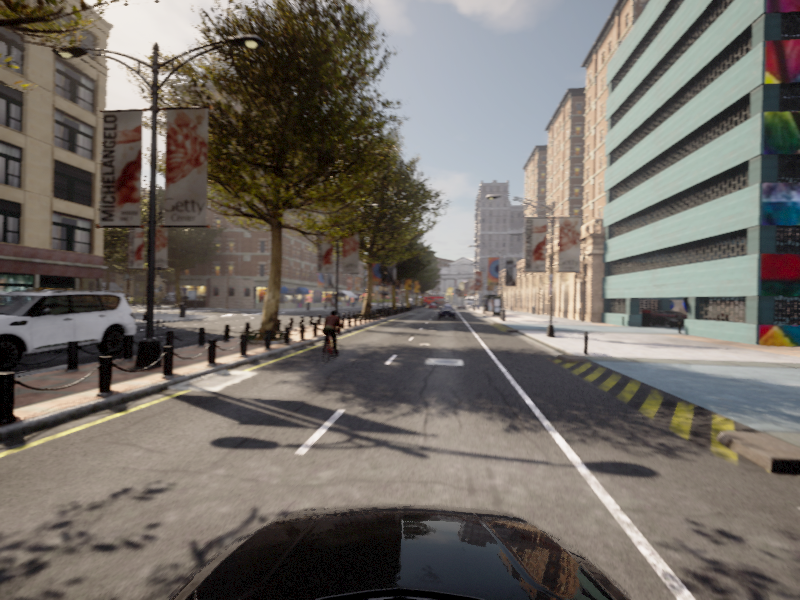vehicle: (1, 287, 146, 383), (1, 306, 55, 368), (313, 309, 347, 366), (438, 306, 456, 319)
